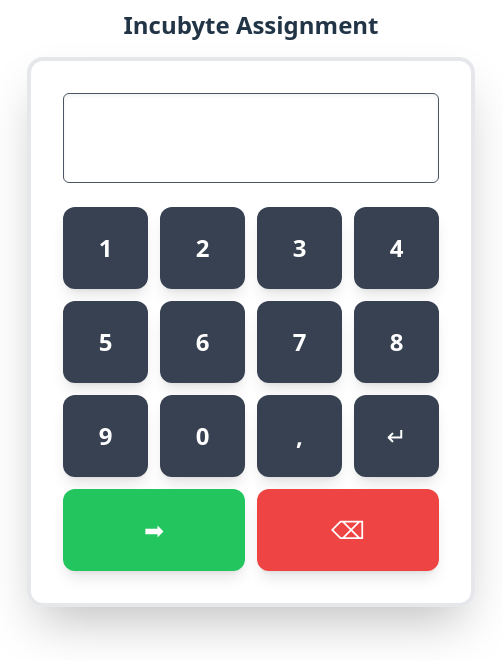
Calculator Component › calculates sum correctly using UI
Click the button "1": (106, 248) [63,207,148,289]
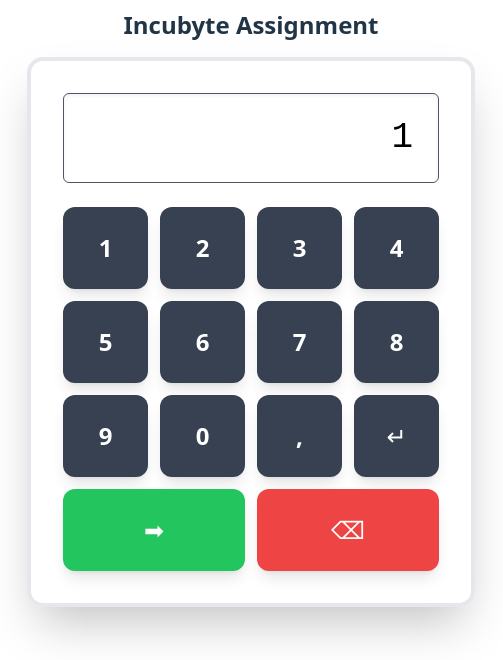
Click the button ",": (300, 436) [257,395,342,477]
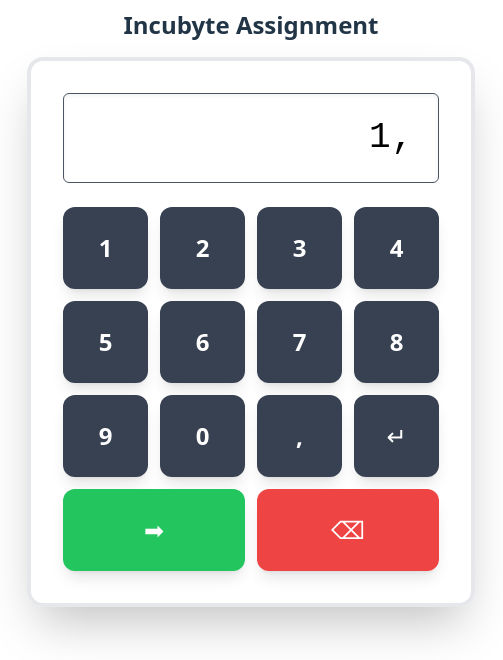
Click the button "2": (202, 248) [160,207,245,289]
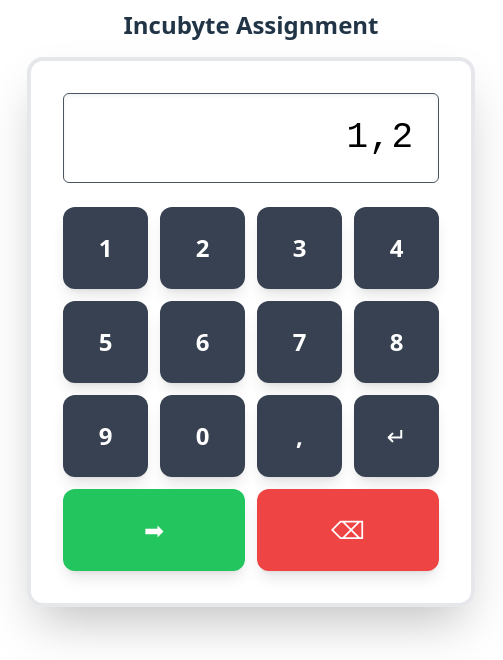
Click the button "➡": (154, 530) [63,489,245,571]
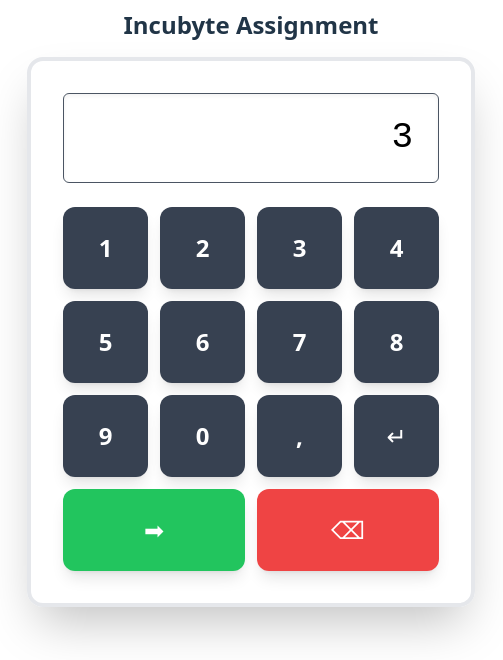
Expected: the field holds "3", [63,93,439,183]
